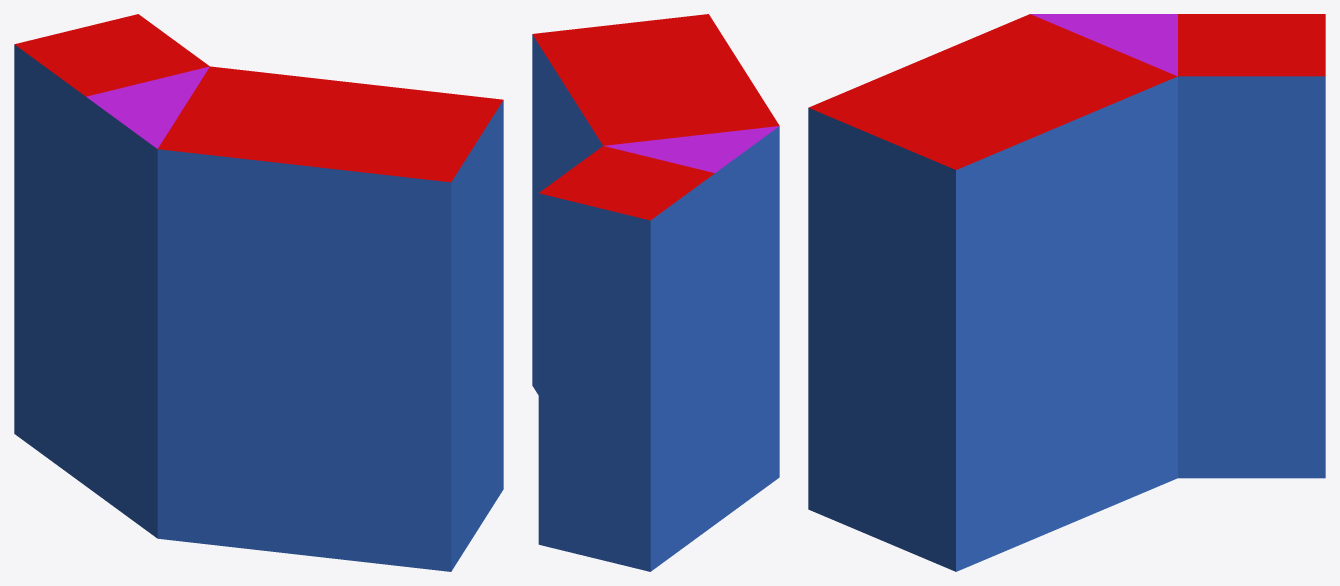
Rendered from walls_type_11.glb.
3 views of the same model, side by side, from view 1: azimuth 30°, elevation 25°; view 2: azimuth 150°, elevation 25°; view 3: azimuth 270°, elevation 25° (orthographic). The views are drawn at different scales.
Parts seen in each view (by area): view 1: Type_11; view 2: Type_11; view 3: Type_11.
Boxes of the visible parts, bbox=[...] form: Type_11: bbox=[14, 14, 503, 571]; Type_11: bbox=[532, 14, 779, 571]; Type_11: bbox=[808, 14, 1325, 571].
Bounding box in the file's own units: 0.8333 × 1 × 1.17.
